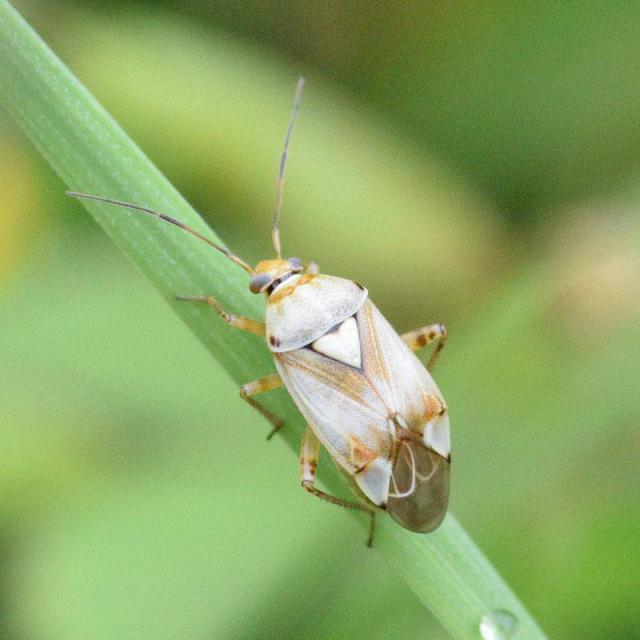Miridae-Adult-: (59, 73, 458, 557)
